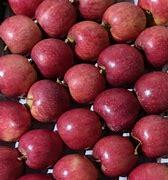apple: (57, 19, 121, 58), (23, 78, 71, 120), (94, 50, 147, 88), (10, 124, 60, 163), (27, 33, 73, 72), (85, 135, 135, 170), (54, 112, 103, 145), (0, 101, 39, 142), (133, 115, 168, 160), (0, 18, 42, 55), (59, 61, 102, 97), (97, 89, 135, 129), (44, 156, 99, 180), (131, 77, 168, 110), (101, 7, 144, 35), (0, 57, 35, 90), (135, 27, 168, 62), (33, 6, 73, 28)
